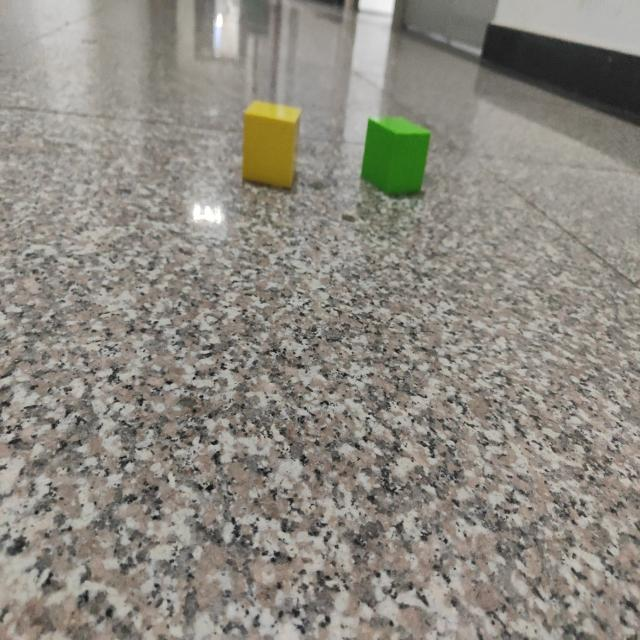green: (361, 119, 431, 200)
yellow: (242, 102, 301, 192)
